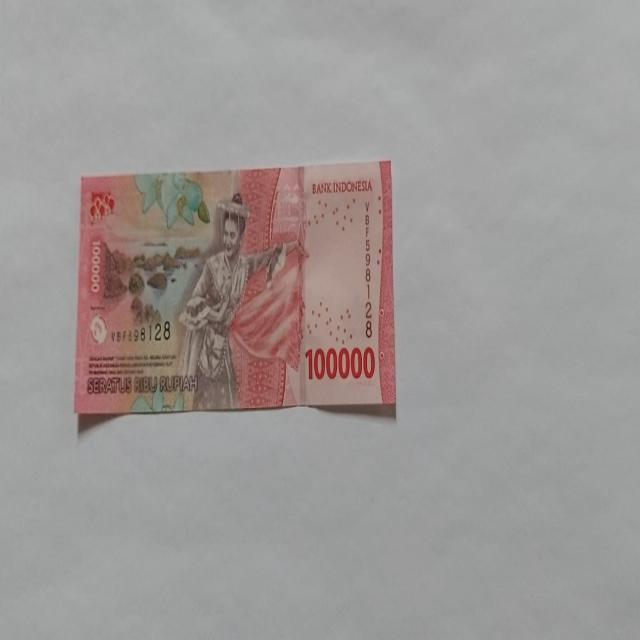seratus ribu rupiah: (74, 161, 396, 418), (175, 191, 300, 410)
